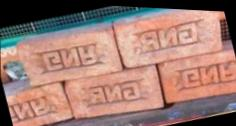brick: (113, 6, 226, 76), (16, 20, 122, 93), (62, 59, 165, 126), (156, 43, 236, 109), (4, 77, 74, 126)
